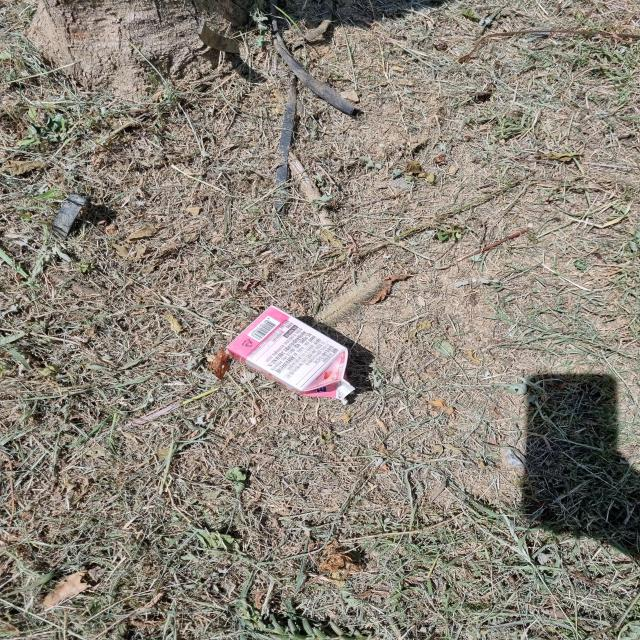litter: (205, 294, 395, 423)
